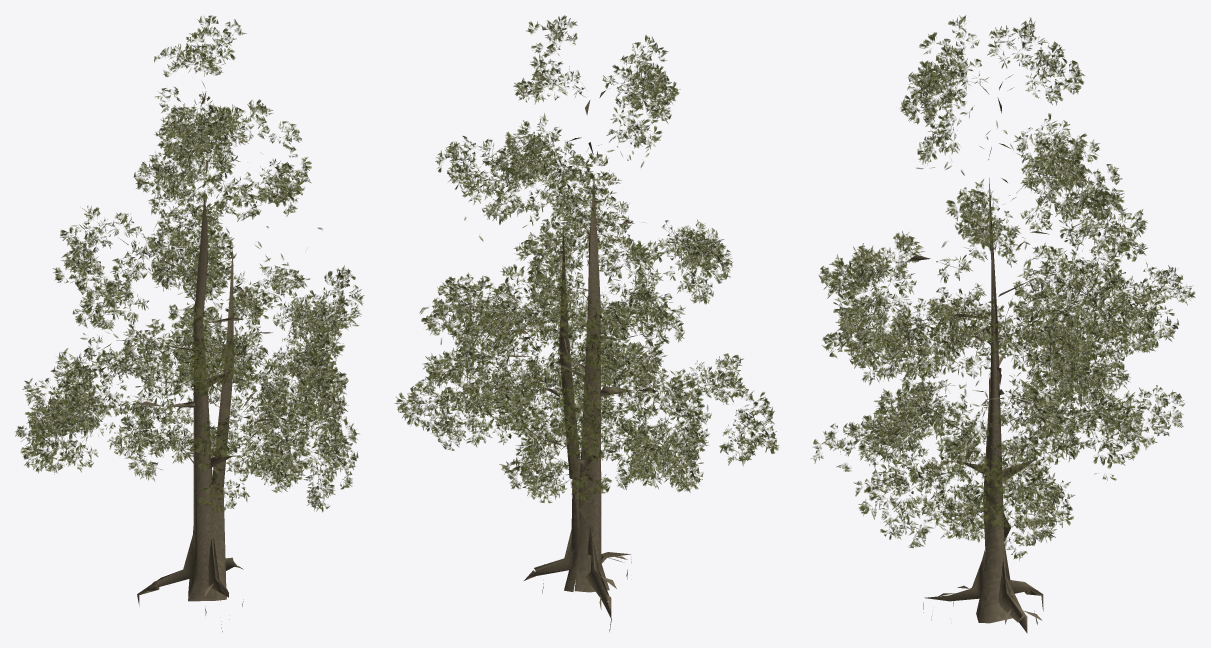
The model's file is pine.glb.
The picture shows the model from 3 angles, left to right: view 1: azimuth 30°, elevation 25°; view 2: azimuth 150°, elevation 25°; view 3: azimuth 270°, elevation 25°; orthographic projection. The views are drawn at different scales.
Parts seen in each view (by area): view 1: pine5_leaf_Mat_0.006, pine5_leaf_Mat_0.008, pine5_leaf_Mat_0.005, pine5_bark_Mat_0.007, pine5_leaf_Mat_0.002, pine5, pine5_leaf_Mat_0.001, pine5_leaf_Mat_0.007, pine5_leaf_Mat_0.003, pine5_leaf_Mat_0.004; view 2: pine5_leaf_Mat_0.005, pine5_leaf_Mat_0.002, pine5_leaf_Mat_0.006, pine5_leaf_Mat_0.008, pine5_leaf_Mat_0.001, pine5_bark_Mat_0.007, pine5_leaf_Mat_0.007, pine5, pine5_leaf_Mat_0.004, pine5_leaf_Mat_0.003; view 3: pine5_leaf_Mat_0.008, pine5_leaf_Mat_0.005, pine5_leaf_Mat_0.006, pine5_leaf_Mat_0.007, pine5_leaf_Mat_0.004, pine5, pine5_leaf_Mat_0.003, pine5_leaf_Mat_0.002, pine5_bark_Mat_0.007, pine5_leaf_Mat_0.001.
Boxes of the visible parts, box(x1,y1,x2,y2) form: pine5_leaf_Mat_0.006: box(72, 150, 361, 419); pine5_leaf_Mat_0.008: box(100, 15, 358, 485); pine5_leaf_Mat_0.005: box(52, 151, 361, 512); pine5_bark_Mat_0.007: box(46, 66, 320, 631); pine5_leaf_Mat_0.002: box(15, 258, 359, 511); pine5: box(55, 149, 364, 407); pine5_leaf_Mat_0.001: box(17, 209, 360, 471); pine5_leaf_Mat_0.007: box(77, 26, 350, 412); pine5_leaf_Mat_0.003: box(63, 325, 348, 492); pine5_leaf_Mat_0.004: box(50, 286, 356, 514); pine5_leaf_Mat_0.005: box(396, 150, 732, 455); pine5_leaf_Mat_0.002: box(394, 279, 779, 502); pine5_leaf_Mat_0.006: box(424, 152, 732, 384); pine5_leaf_Mat_0.008: box(437, 15, 672, 495); pine5_leaf_Mat_0.001: box(517, 160, 778, 492); pine5_bark_Mat_0.007: box(425, 66, 755, 631); pine5_leaf_Mat_0.007: box(430, 16, 726, 379); pine5: box(419, 138, 688, 381); pine5_leaf_Mat_0.004: box(397, 306, 684, 477); pine5_leaf_Mat_0.003: box(431, 297, 659, 503); pine5_leaf_Mat_0.008: box(811, 17, 1138, 511); pine5_leaf_Mat_0.005: box(818, 154, 1191, 546); pine5_leaf_Mat_0.006: box(820, 156, 1195, 385); pine5_leaf_Mat_0.007: box(837, 15, 1178, 379); pine5_leaf_Mat_0.004: box(859, 287, 1146, 548); pine5: box(822, 120, 1163, 411); pine5_leaf_Mat_0.003: box(850, 352, 1184, 557); pine5_leaf_Mat_0.002: box(852, 272, 1183, 560); pine5_bark_Mat_0.007: box(880, 62, 1133, 633); pine5_leaf_Mat_0.001: box(826, 206, 1145, 437).
Size of the model in its own units: 10.81 by 17.36 by 9.75.
2 materials, 2 textured.
